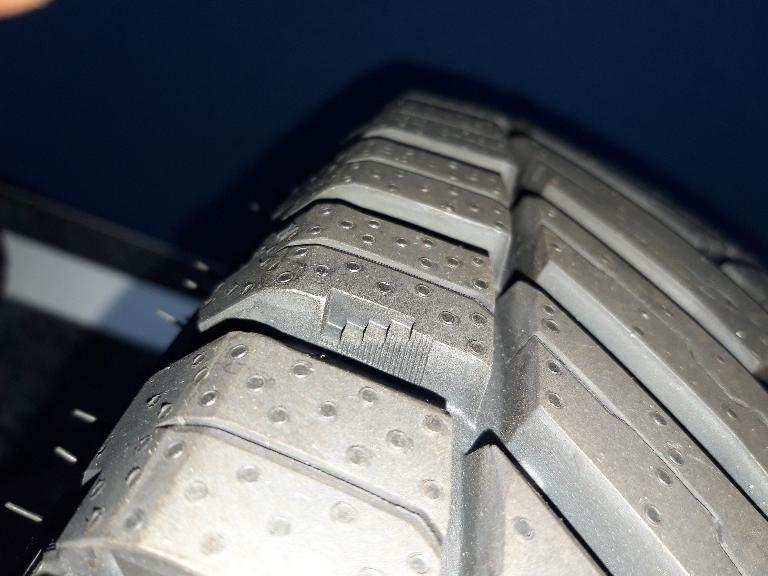temoin:100: (316, 285, 434, 388)
